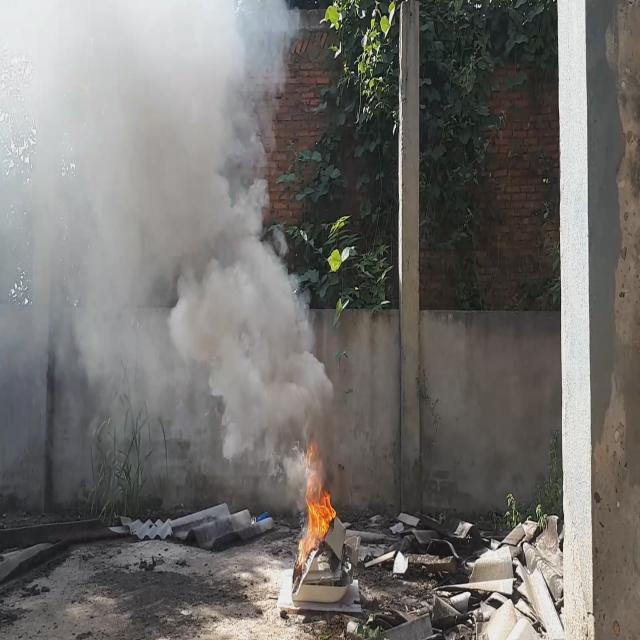Fire: (297, 442, 338, 572)
Smoke: (0, 0, 340, 503)
